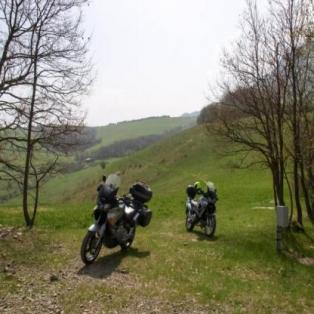Motocicleta: (79, 168, 155, 274), (180, 173, 222, 243)
